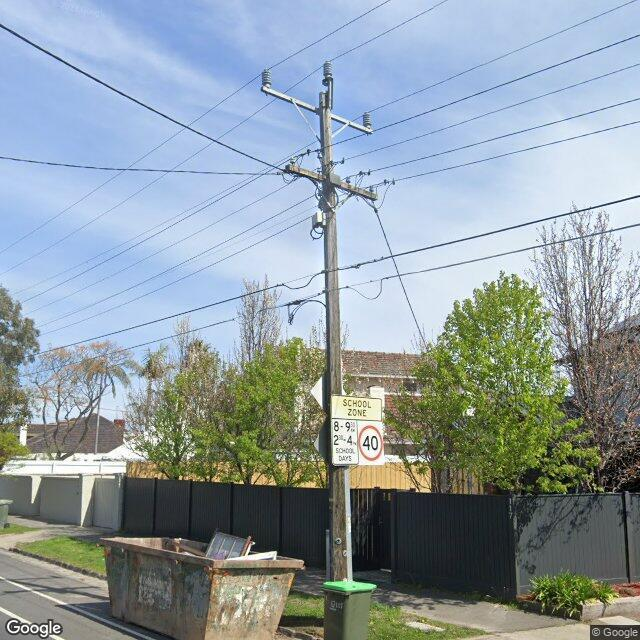HV-transmission: (259, 61, 373, 136)
crossarm: (280, 148, 396, 202), (260, 87, 372, 135)
timber-pole: (319, 91, 353, 583)
